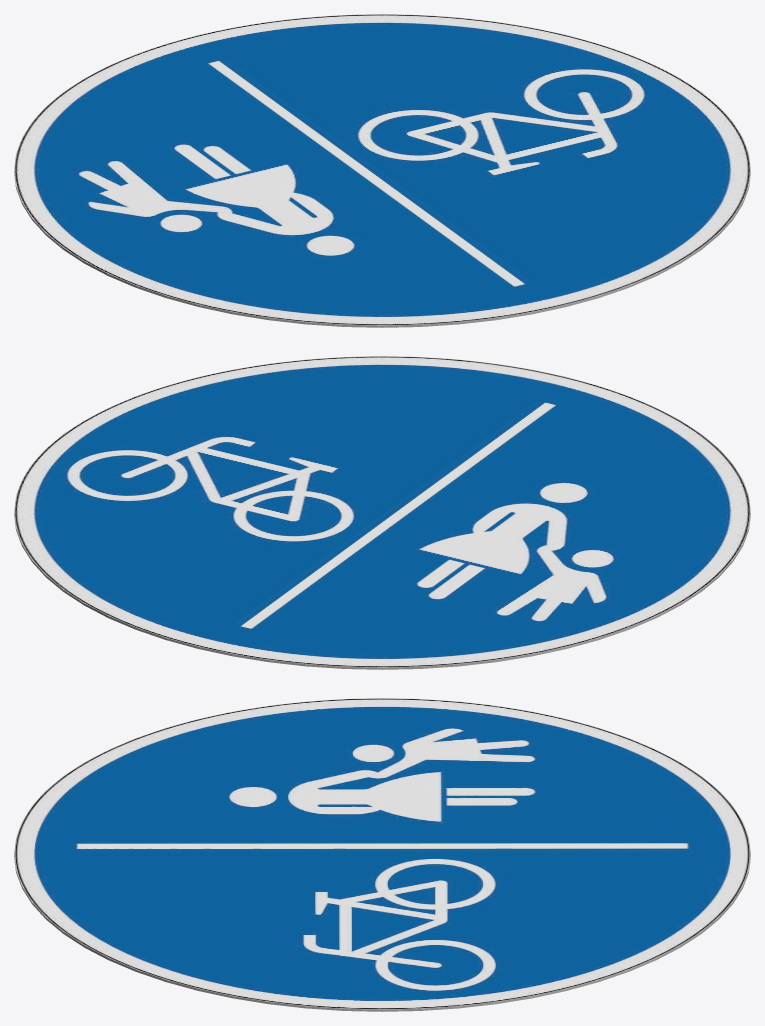
The picture shows the model from 3 angles, top to bottom: view 1: azimuth 30°, elevation 25°; view 2: azimuth 150°, elevation 25°; view 3: azimuth 270°, elevation 25°; orthographic projection.
Visible parts, largest first — view 1: Circle_Schild_Rund; view 2: Circle_Schild_Rund; view 3: Circle_Schild_Rund.
Part boxes in pixels (x1,y1,x2,y2): Circle_Schild_Rund: [14, 14, 750, 327]; Circle_Schild_Rund: [14, 356, 750, 669]; Circle_Schild_Rund: [14, 698, 750, 1011].
Bounding box in the file's own units: 0.6 × 0.002 × 0.6.
2 materials, 1 textured.
